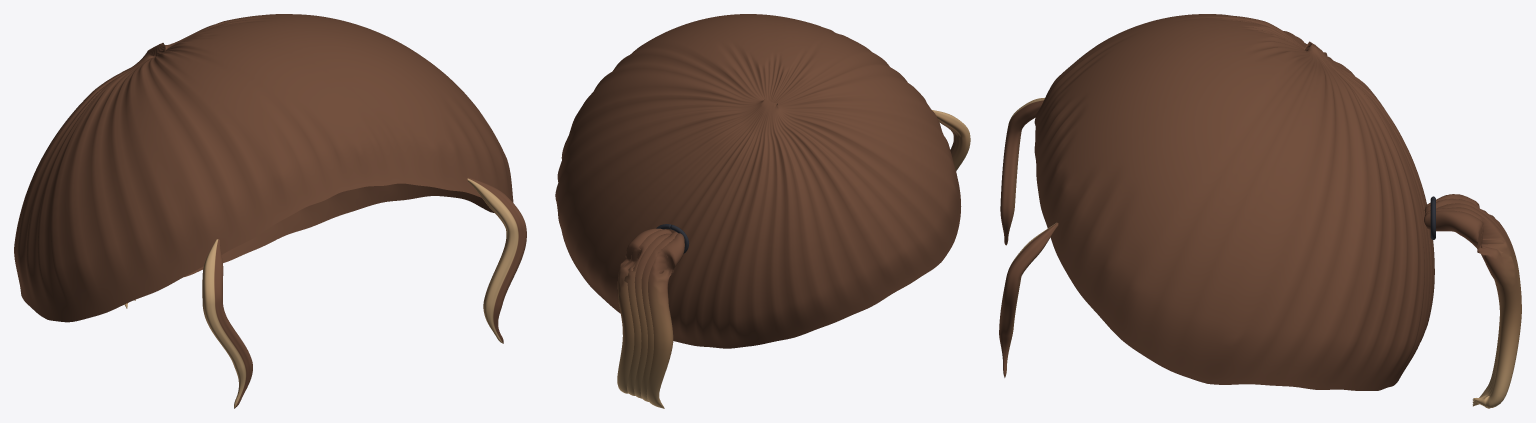
File: Ombre-887dbbe70ee1253-hair.glb
3 renders of one model, left to right at view 1: azimuth 30°, elevation 25°; view 2: azimuth 150°, elevation 25°; view 3: azimuth 270°, elevation 25°, orthographic. The views are drawn at different scales.
Visible parts, largest first — view 1: 226 hair / Hair / crisp pulled roots220.002, 226 hair / Hair / sculpted front locks222.002; view 2: 226 hair / Hair / crisp pulled roots220.002, 226 hair / Hair / chestnut226.001, 226 hair / Hair / sculpted front locks222.002; view 3: 226 hair / Hair / crisp pulled roots220.002, 226 hair / Hair / chestnut226.001, 226 hair / Hair / sculpted front locks222.002.
Part boxes in pixels (bbox=[...]): 226 hair / Hair / crisp pulled roots220.002: bbox=[14, 14, 513, 322]; 226 hair / Hair / sculpted front locks222.002: bbox=[202, 177, 526, 408]; 226 hair / Hair / crisp pulled roots220.002: bbox=[555, 14, 961, 348]; 226 hair / Hair / chestnut226.001: bbox=[617, 228, 684, 408]; 226 hair / Hair / sculpted front locks222.002: bbox=[932, 110, 970, 171]; 226 hair / Hair / crisp pulled roots220.002: bbox=[1034, 14, 1434, 390]; 226 hair / Hair / chestnut226.001: bbox=[1424, 194, 1521, 408]; 226 hair / Hair / sculpted front locks222.002: bbox=[999, 98, 1058, 377].
Size of the model in its own units: 0.9675 by 0.7594 by 0.9676.
Materials: 4 (3 with a texture image).
